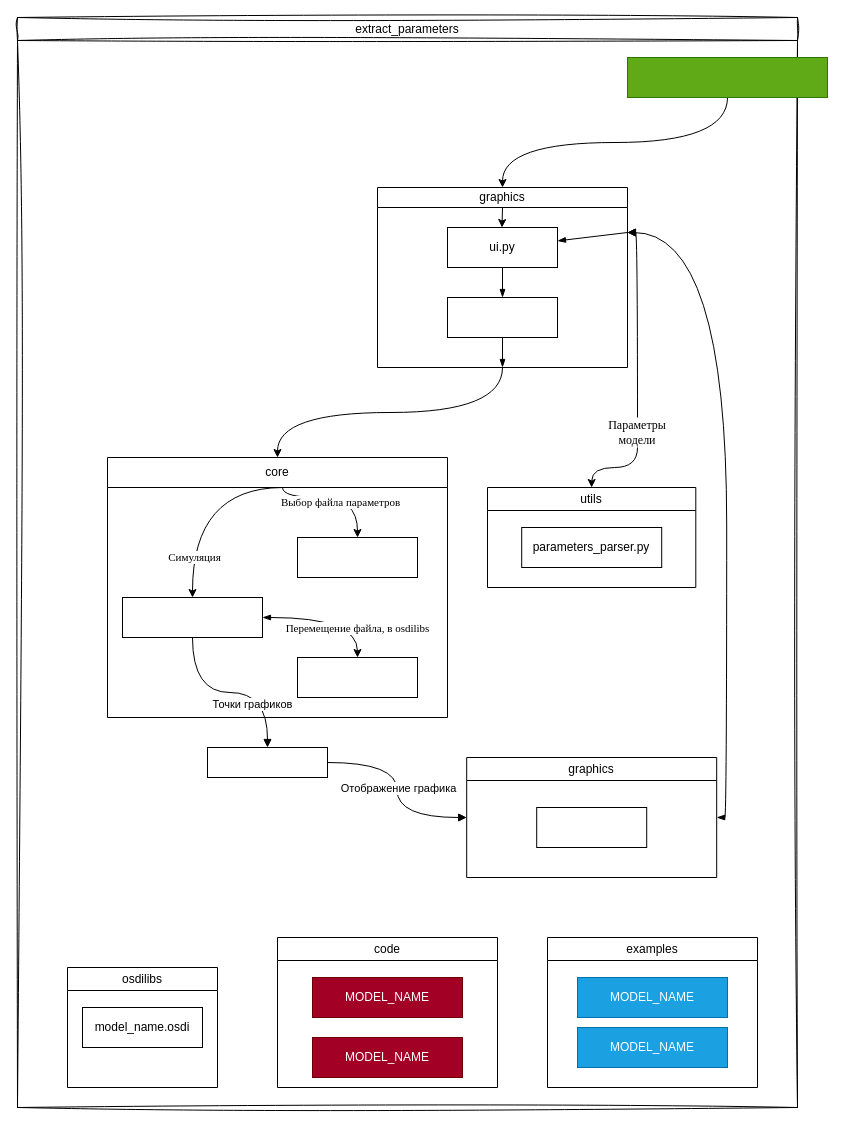
This 845x1125 diagram has some shape labels left out. Each missing label, with the centre of its shape:
"file_manager.py" belongs at (x=357, y=557).
"handlers.py" belongs at (x=502, y=317).
"main.py" belongs at (x=727, y=77).
"osdi_manager.py" belongs at (x=357, y=677).
"plot_simulation.py" belongs at (x=591, y=827).
"simulation_data.txt" belongs at (x=267, y=762).
"simulation_runner.py" belongs at (x=192, y=617).
